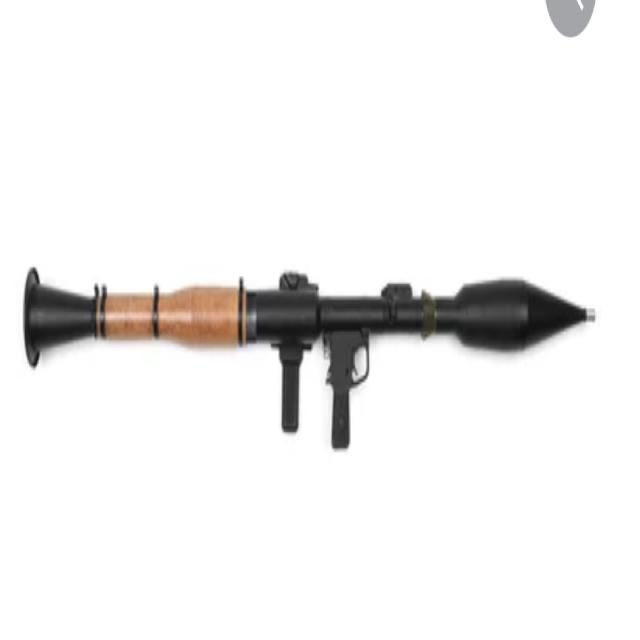bazooka: (12, 232, 605, 457)
